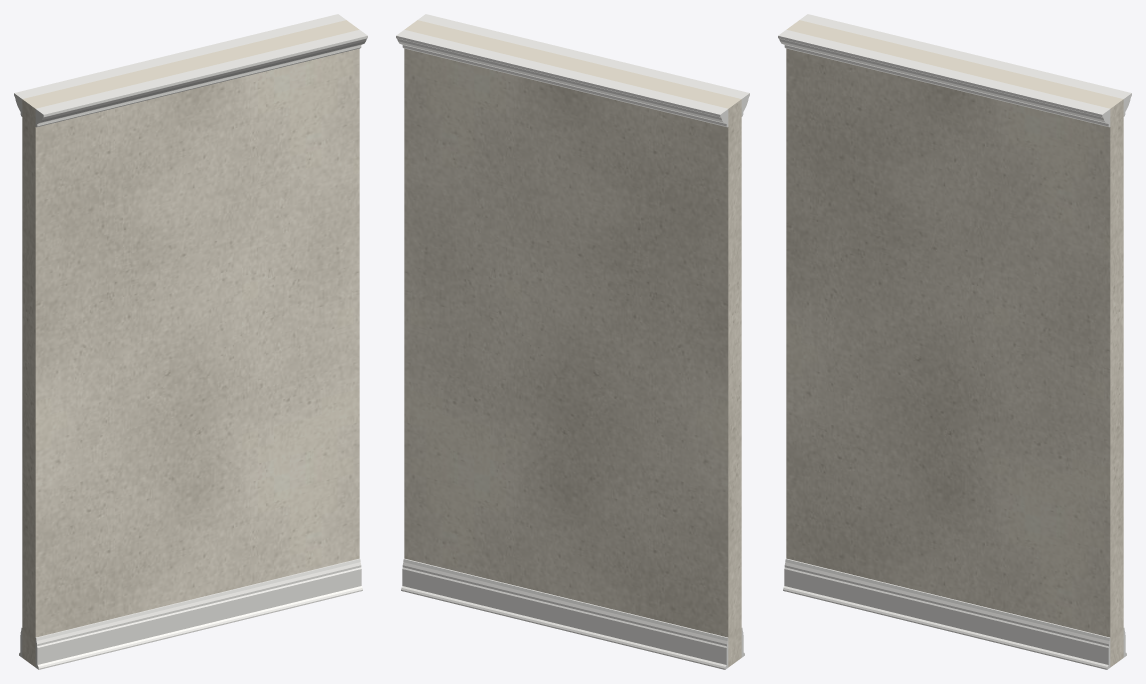
File: interior_wall_end.glb
3 renders of one model, left to right at view 1: azimuth 30°, elevation 25°; view 2: azimuth 150°, elevation 25°; view 3: azimuth 330°, elevation 25°, orthographic.
Parts seen in each view (by area): view 1: interior_wall_end_plaster, molduras; view 2: interior_wall_end_plaster, molduras; view 3: interior_wall_end_plaster, molduras.
Part boxes in pixels (<box>): interior_wall_end_plaster: <box>22,20,359,667</box>; molduras: <box>14,14,367,669</box>; interior_wall_end_plaster: <box>404,20,741,667</box>; molduras: <box>396,14,749,669</box>; interior_wall_end_plaster: <box>786,20,1123,667</box>; molduras: <box>778,14,1131,669</box>.
Size of the model in its own units: 1.7 by 2.8 by 0.27.
Materials: 2 (1 with a texture image).
